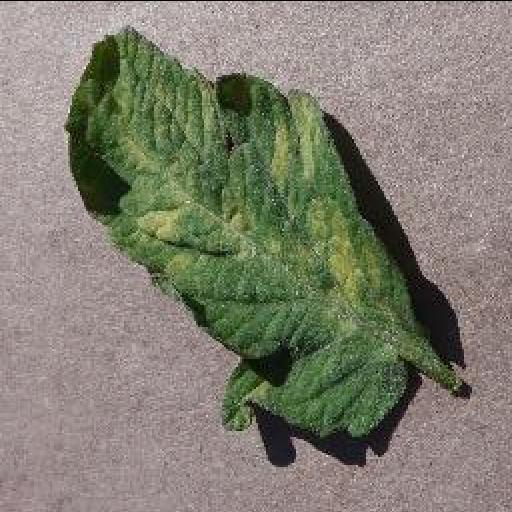disease_tomato: (63, 22, 417, 430)
